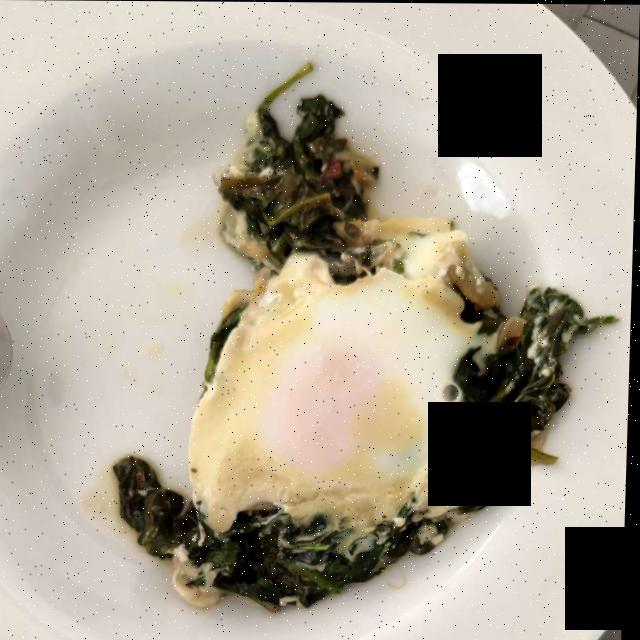egg: (197, 228, 524, 533)
leaf-spinach: (139, 287, 584, 591), (194, 107, 374, 473)
